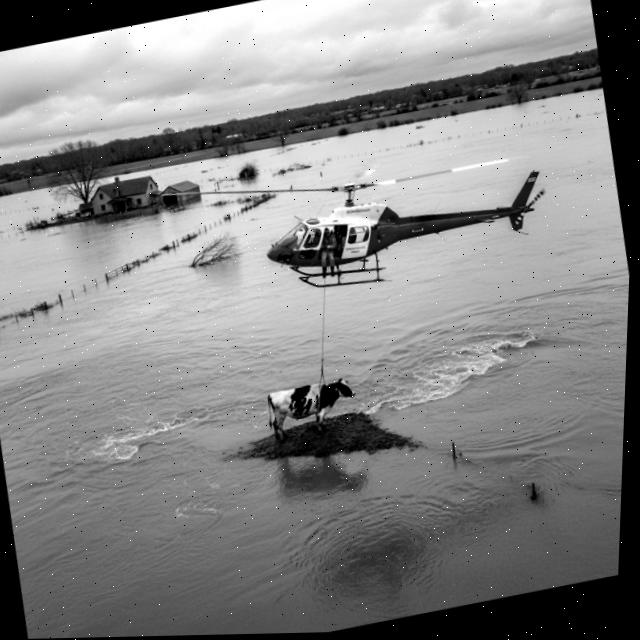cow: (251, 368, 371, 447)
rescuer: (310, 221, 348, 284)
